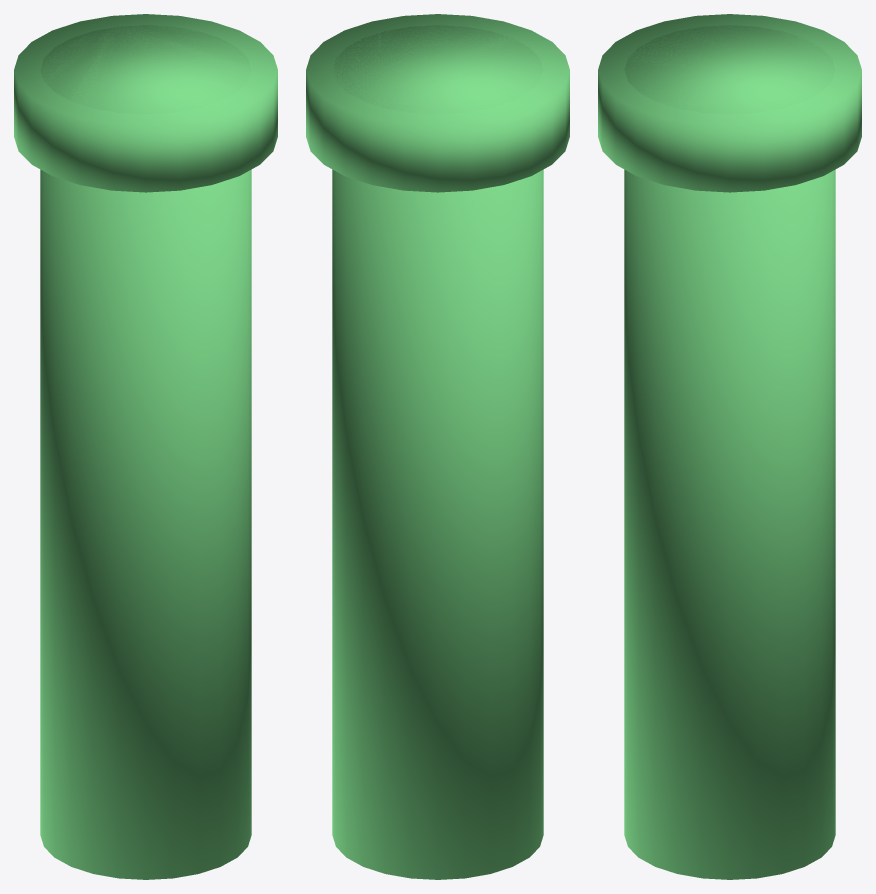
File: Pipe.fbx
3 views of the same model, side by side, from view 1: azimuth 30°, elevation 25°; view 2: azimuth 150°, elevation 25°; view 3: azimuth 270°, elevation 25° (orthographic).
Visible parts, largest first — view 1: Pipe; view 2: Pipe; view 3: Pipe.
Part boxes in pixels (x1,y1,x2,y2): Pipe: [14, 14, 277, 879]; Pipe: [306, 14, 569, 879]; Pipe: [598, 14, 861, 879].
Bounding box in the file's own units: 2.5 × 8 × 2.5.
